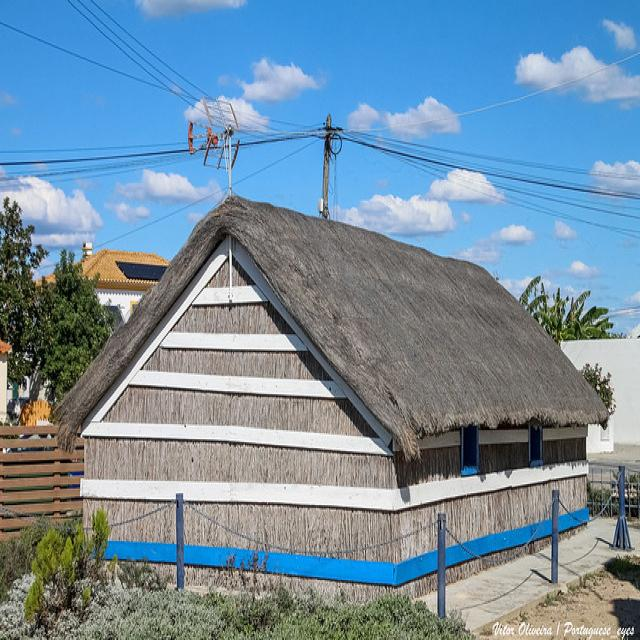Normal_building: (47, 184, 610, 610)
